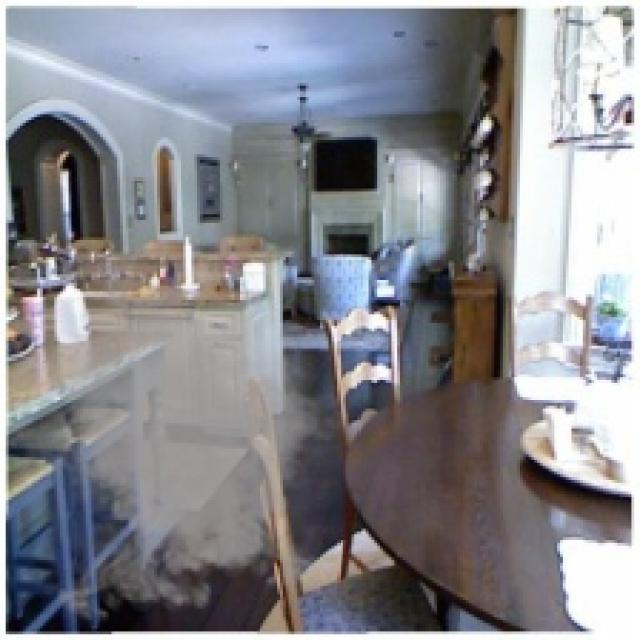smoke: (3, 266, 371, 631)
